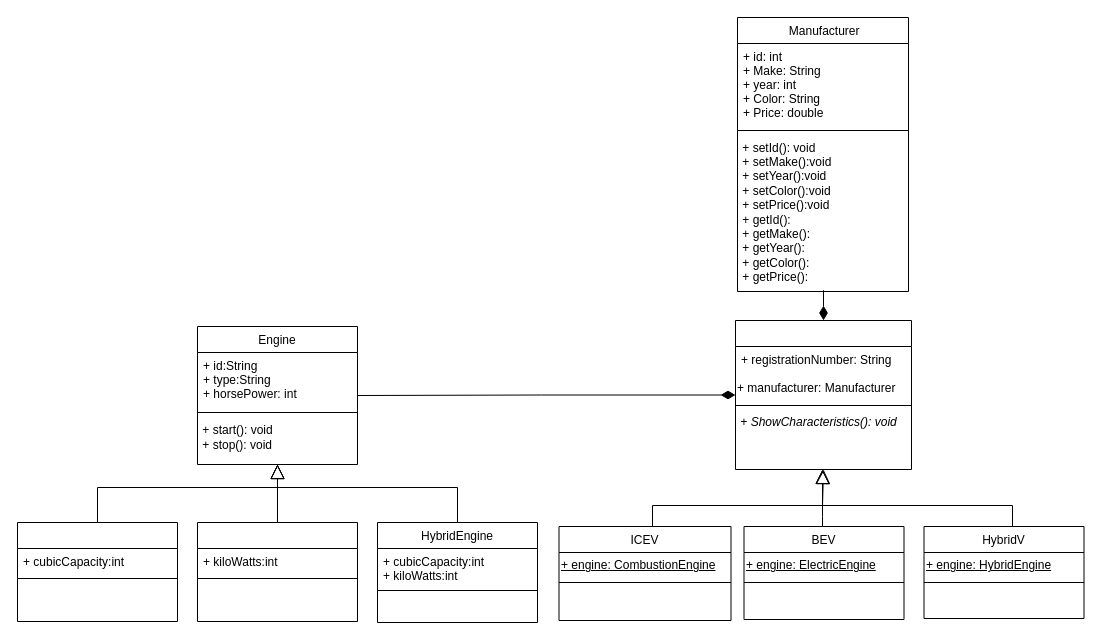
Some shapes in this 1102 by 640 pixel diagram are drawn without their labels. Here are the shapes that lost their labels. From the top down, the box of each, then its label:
(734, 320, 912, 470): Vehicle
(16, 522, 178, 622): CombustionEngine
(196, 522, 358, 622): ElectricEngine
